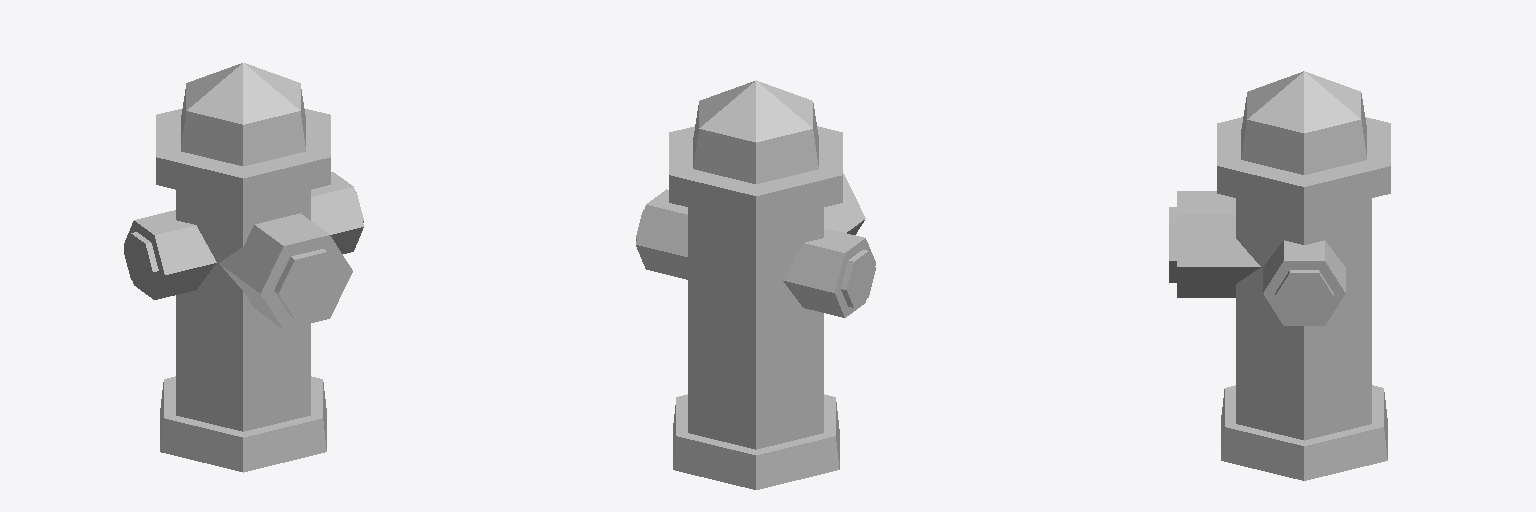
File: hyrant.obj
3 views of the same model, side by side, from view 1: azimuth 30°, elevation 25°; view 2: azimuth 150°, elevation 25°; view 3: azimuth 270°, elevation 25° (orthographic).
Visible parts, largest first — view 1: hydrant_null_; view 2: hydrant_null_; view 3: hydrant_null_.
Boxes of the visible parts, x1=… form: hydrant_null_: x1=124, y1=63, x2=363, y2=472; hydrant_null_: x1=636, y1=80, x2=875, y2=489; hydrant_null_: x1=1169, y1=71, x2=1390, y2=480.
Bounding box in the file's own units: 3.15 × 5.25 × 2.88.